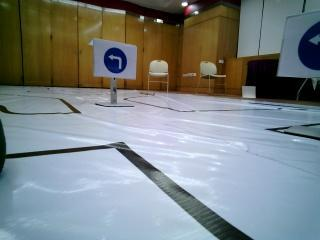left: (103, 43, 134, 74)
